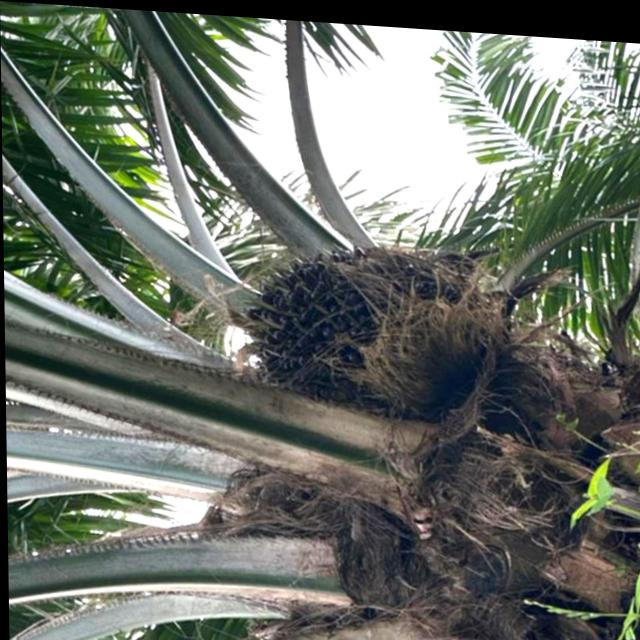almost: (232, 224, 479, 421)
